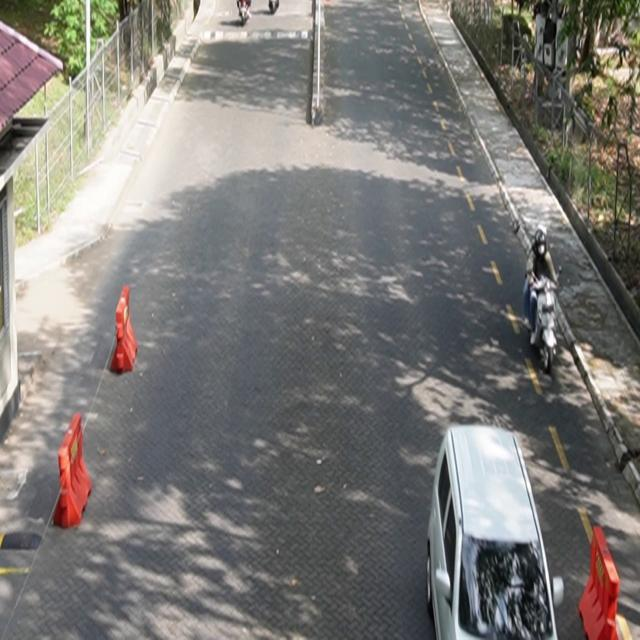car: (426, 424, 565, 640)
